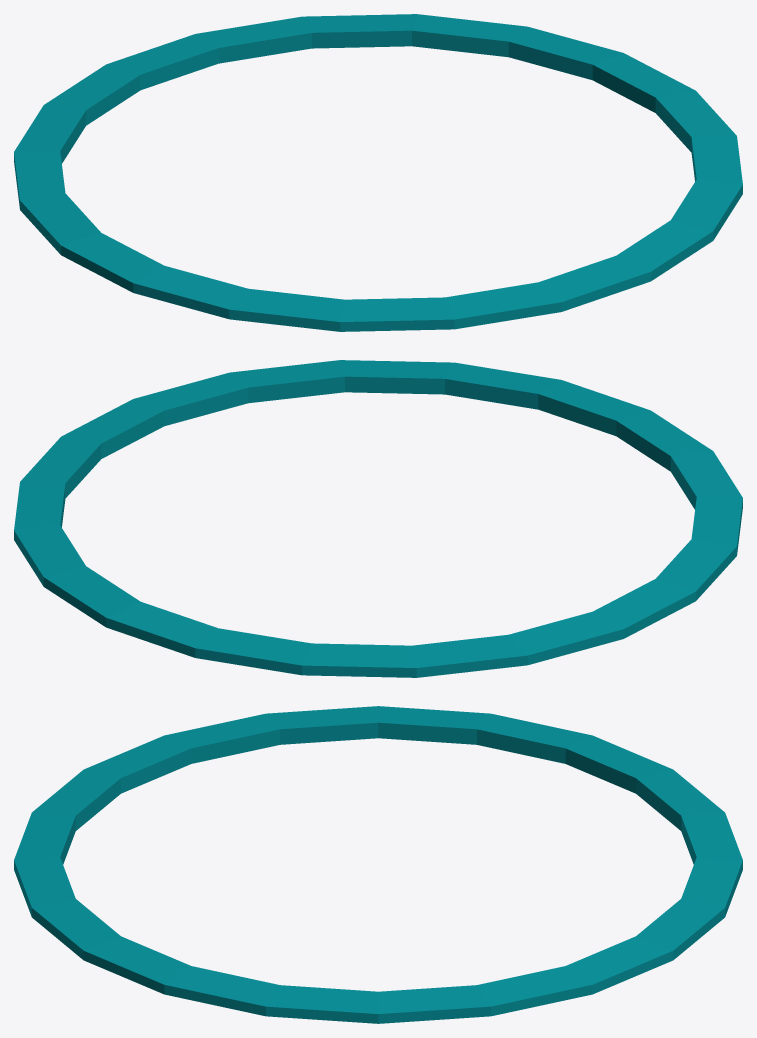
The model's file is Ring.fbx.
3 renders of one model, top to bottom at view 1: azimuth 30°, elevation 25°; view 2: azimuth 150°, elevation 25°; view 3: azimuth 270°, elevation 25°, orthographic.
Visible parts, largest first — view 1: Ring; view 2: Ring; view 3: Ring.
Boxes of the visible parts, <box> form: Ring: <box>14,14,742,331</box>; Ring: <box>14,360,742,677</box>; Ring: <box>14,706,742,1023</box>.
Bounding box in the file's own units: 8487 × 200 × 8487.
